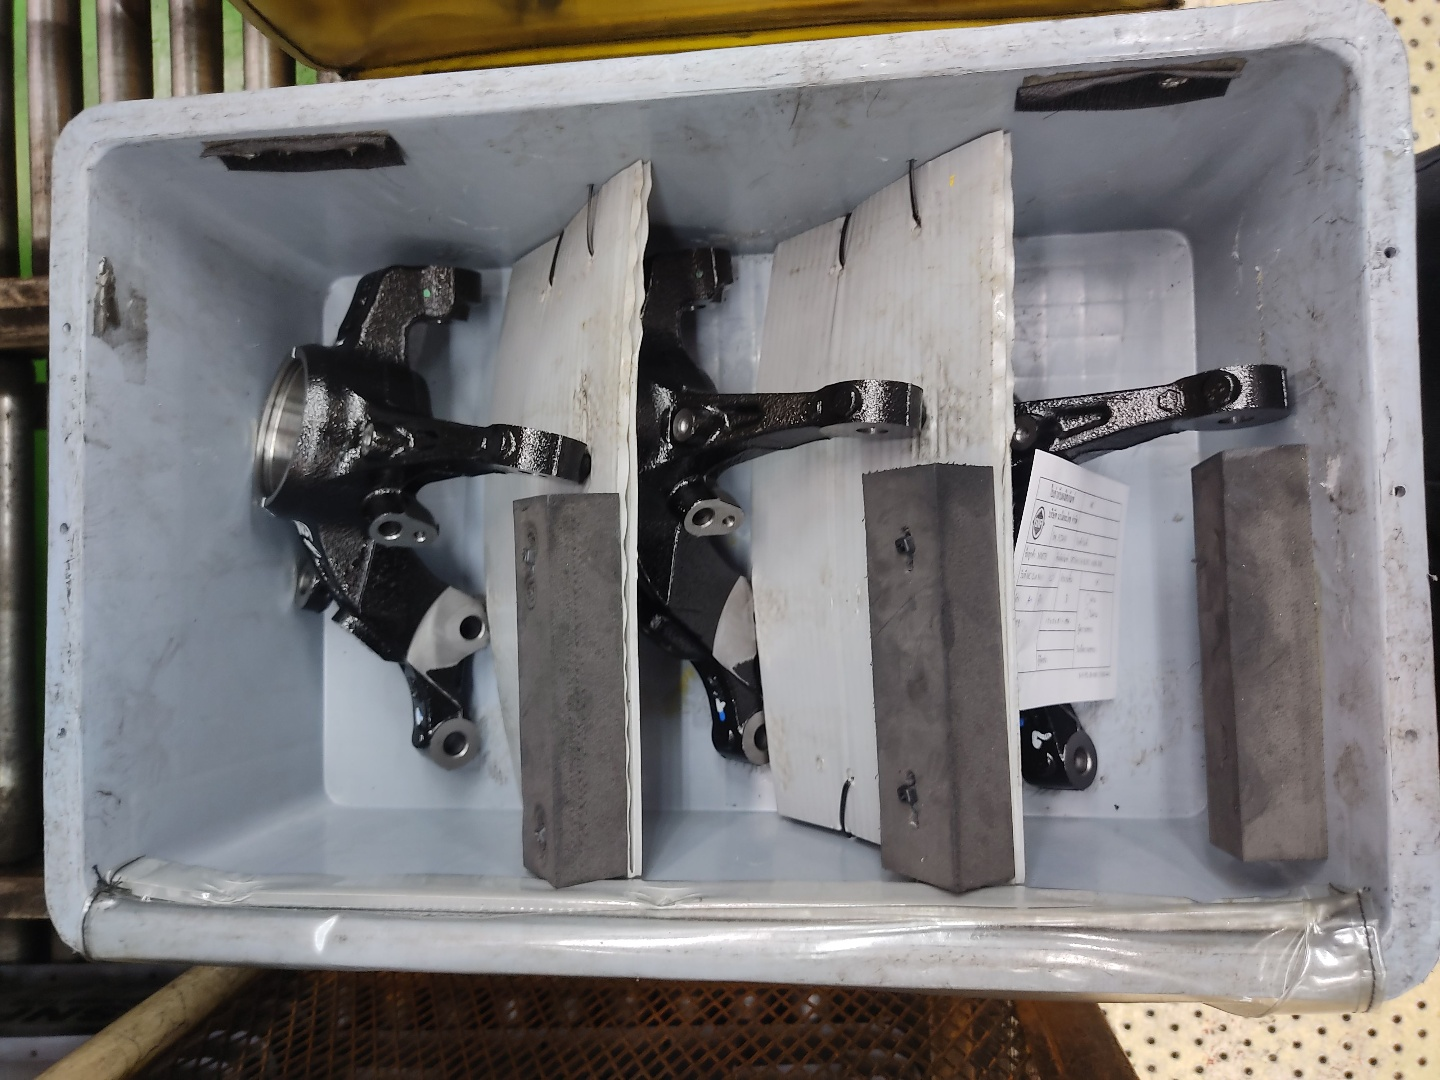abs-rh: (244, 248, 596, 777), (979, 233, 1301, 805), (615, 227, 947, 781)
